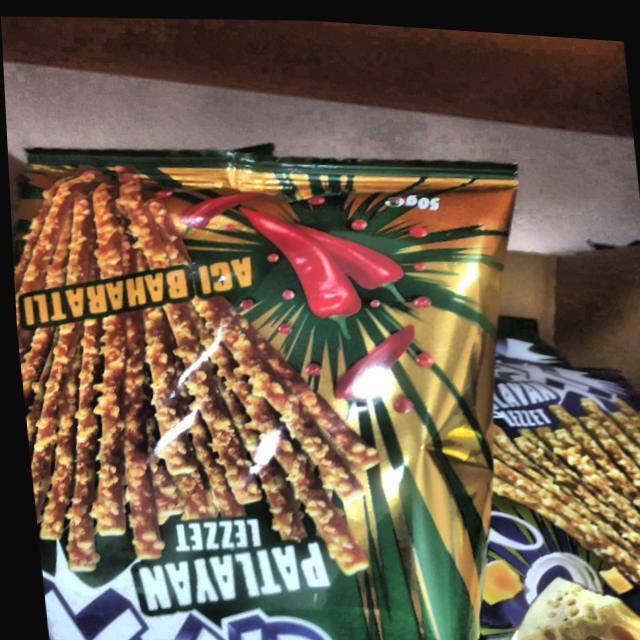Plastic: (18, 140, 522, 640)
